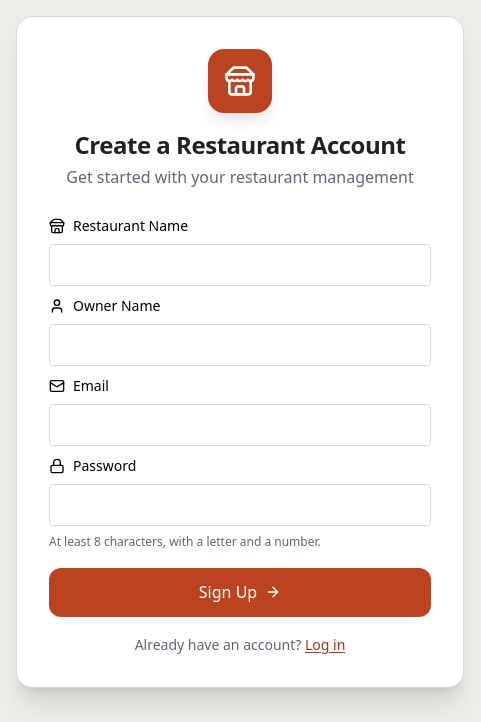
it: sign-up asks the owner to verify their email (VM-13) › sends the verification email and says to check the inbox, instead of moving on
The image size is (481, 722).
Type "Bistro" into the field labelled "Restaurant Name" at (240,265), box [49, 244, 431, 286]
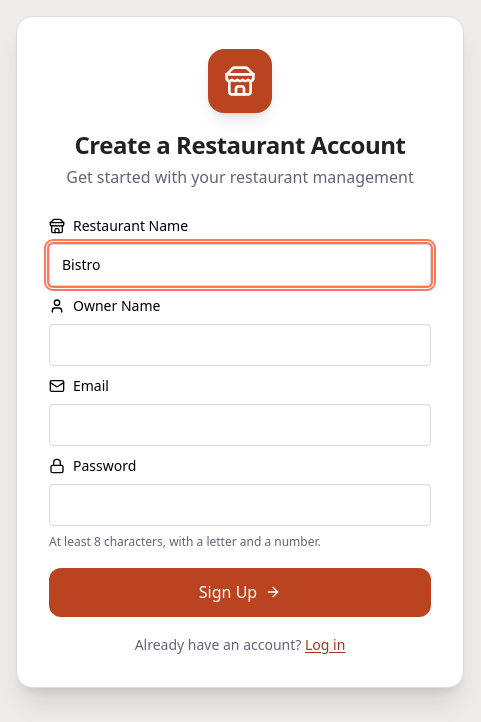
Type "Ory" into the field labelled "Owner Name" at (240,345), box [49, 324, 431, 366]
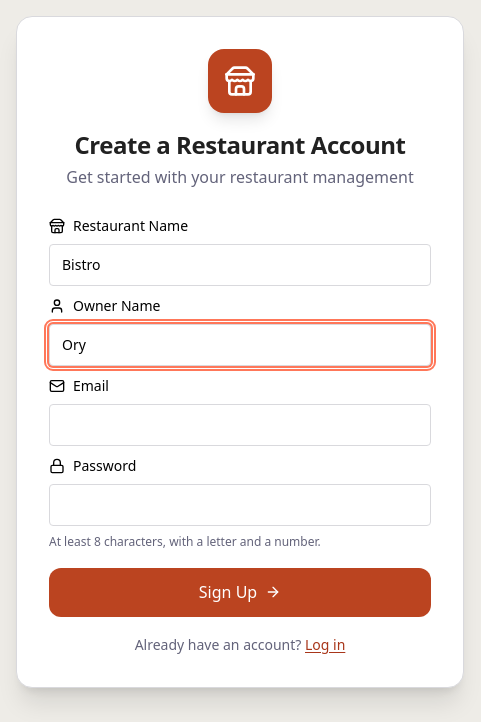
Type "ory@x.test" into the field labelled "Email" at (240,425), box [49, 404, 431, 446]
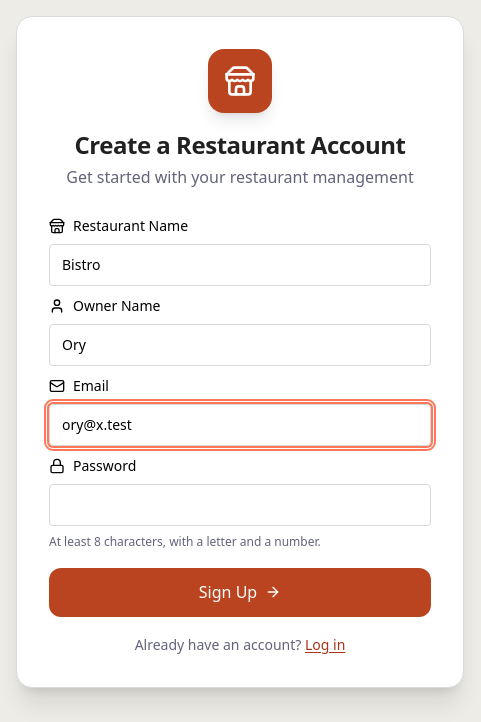
Type "secret-123" into the password field labelled "Password" at (240,505), box [49, 484, 431, 526]
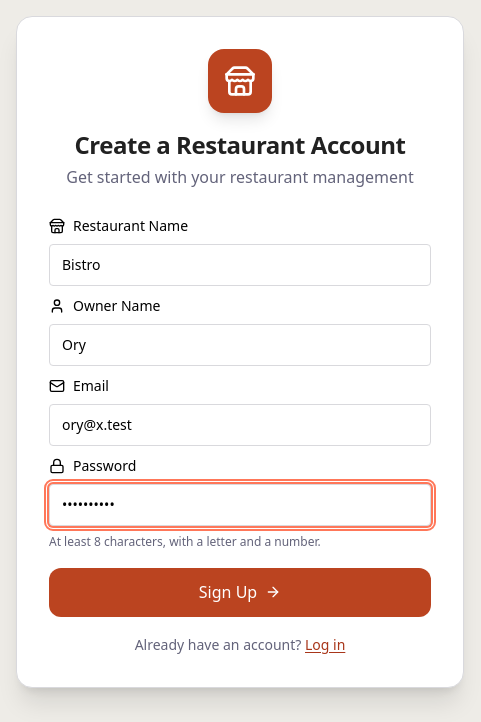
Click the button "Sign Up" at (240,592), box [49, 568, 431, 617]
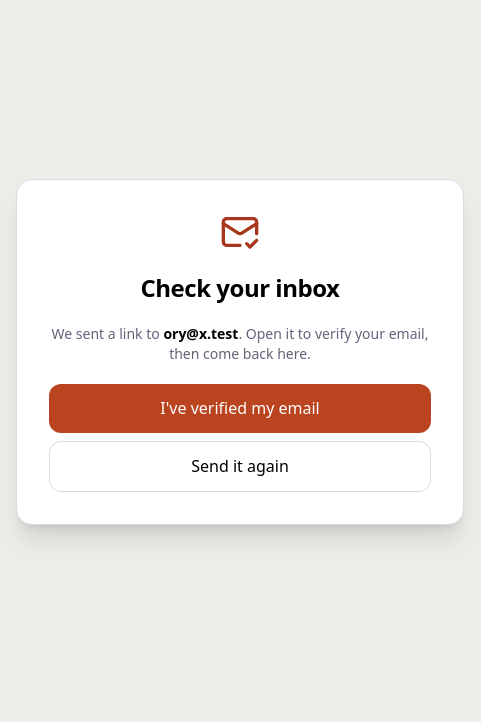
Expected: the heading "Check your inbox" is shown, [140, 271, 340, 304]
Expected: the text "ory@x.test" is shown, [163, 324, 238, 343]
